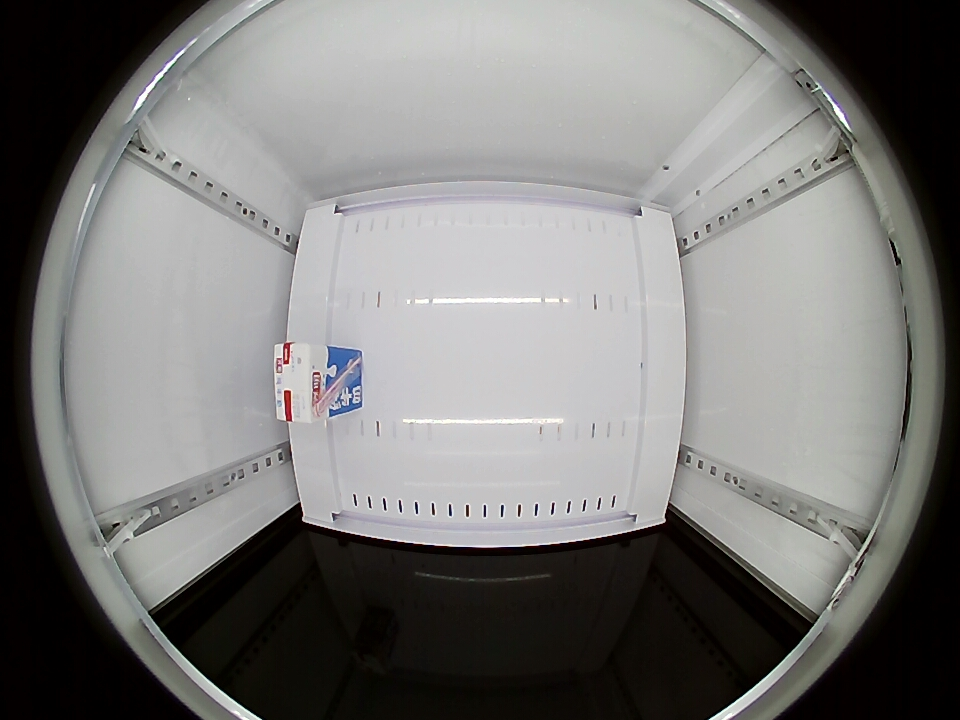niunai: (273, 341, 335, 423)
